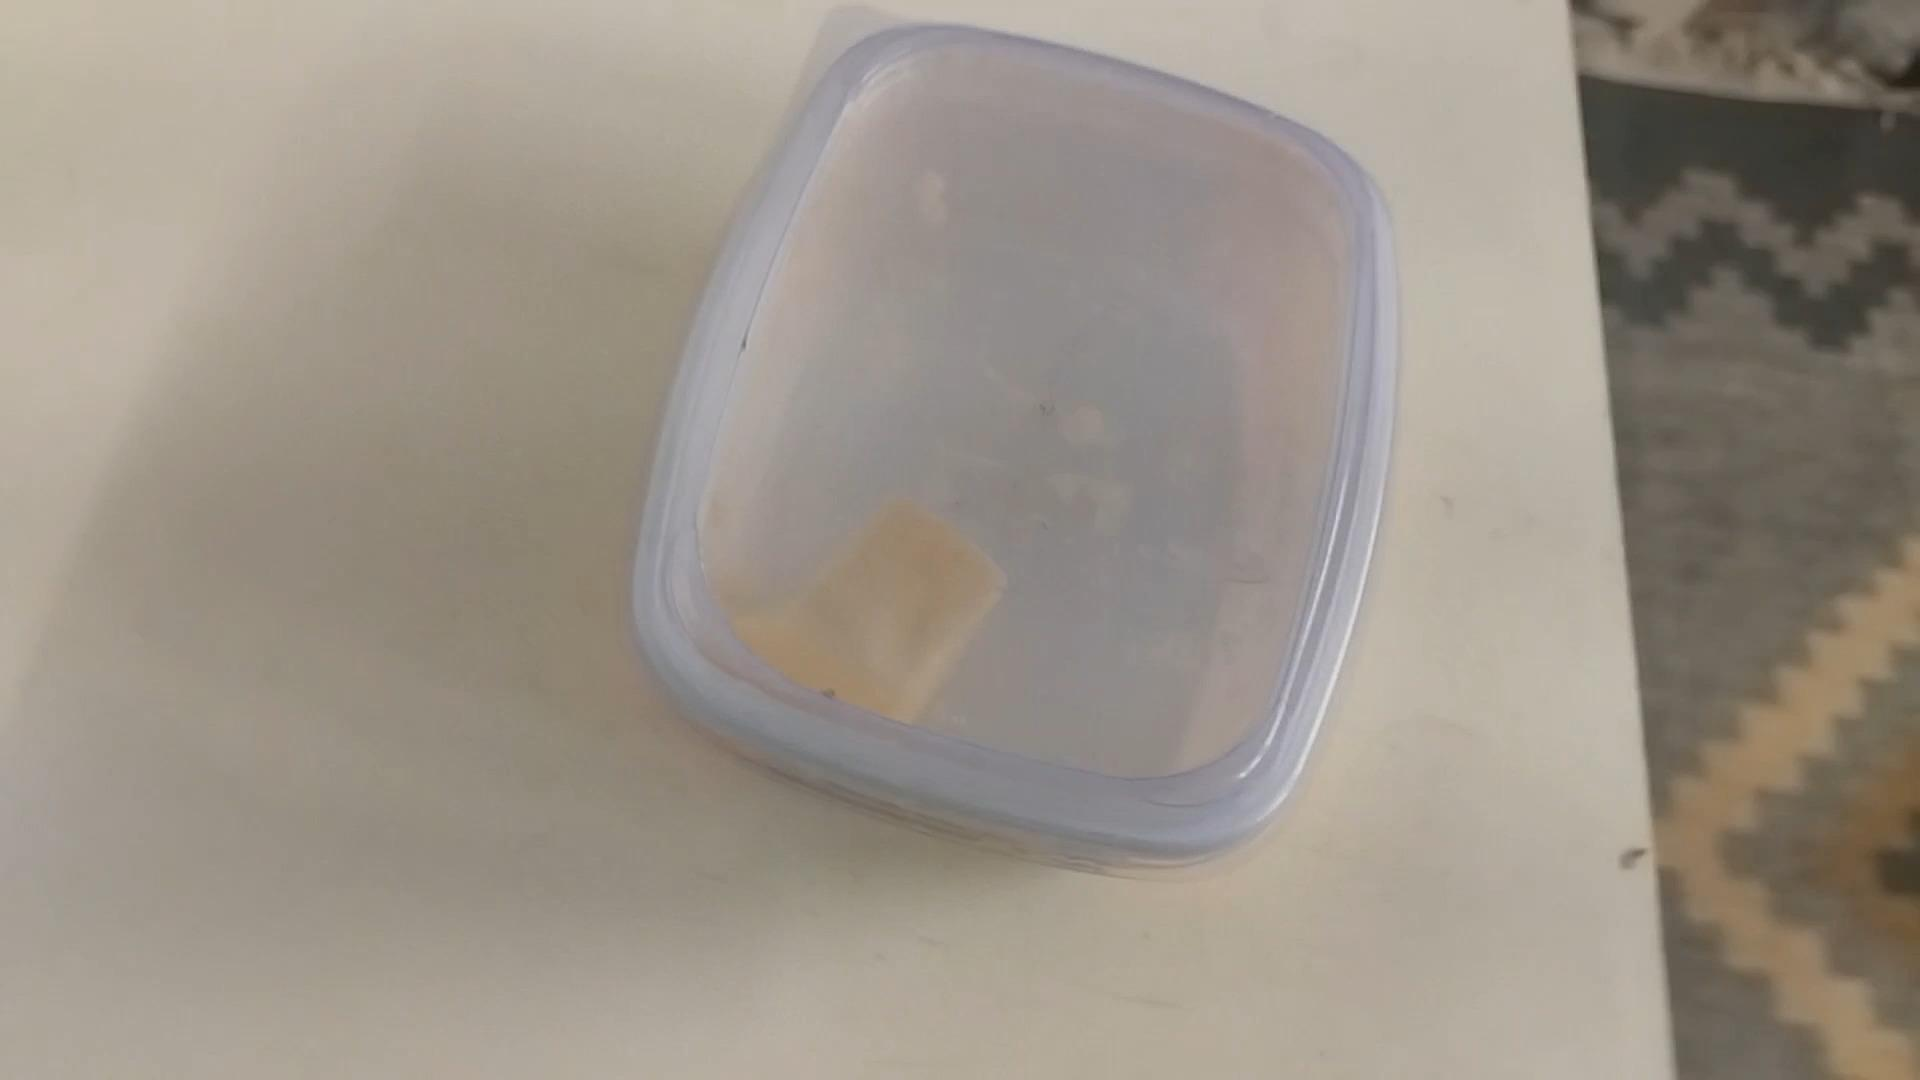butter: (633, 30, 1387, 878)
